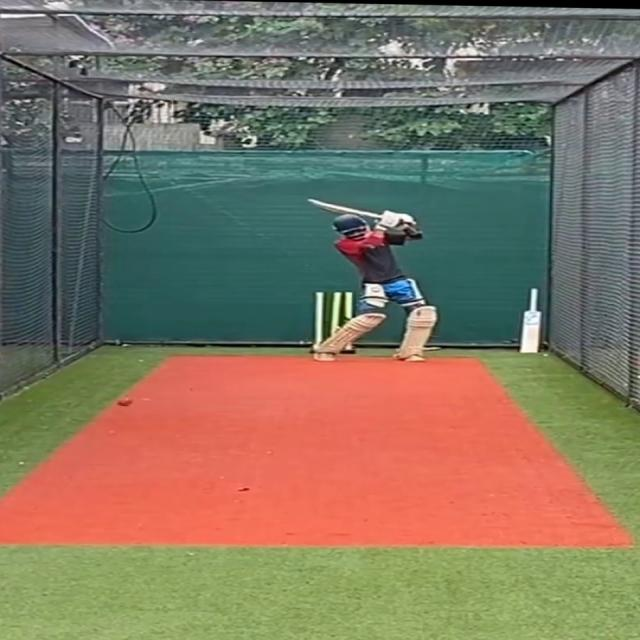ball: (114, 395, 133, 408)
stump: (307, 291, 358, 351)
